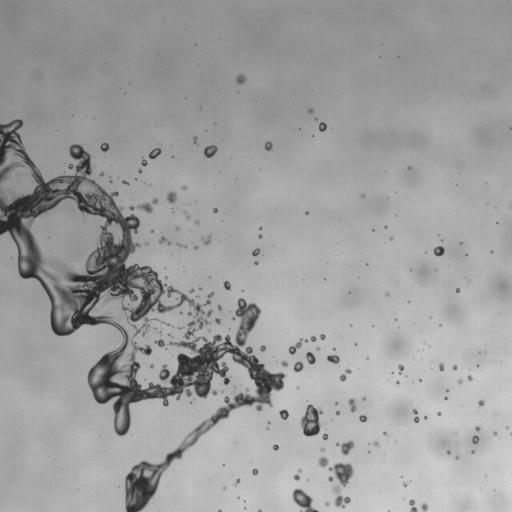droplet: (300, 404, 322, 436), (336, 440, 354, 455), (203, 145, 217, 158), (166, 192, 177, 203), (149, 148, 161, 158), (348, 398, 356, 412), (236, 73, 246, 84), (433, 246, 444, 256), (293, 361, 303, 372), (318, 456, 328, 467), (306, 352, 315, 364), (327, 354, 339, 363), (279, 409, 288, 421), (202, 234, 211, 245), (159, 236, 170, 245), (318, 122, 326, 131), (264, 141, 272, 150), (100, 142, 108, 151), (223, 281, 231, 290), (154, 327, 162, 335), (472, 435, 479, 444), (421, 502, 428, 511), (398, 364, 404, 373), (281, 360, 288, 367), (359, 415, 366, 422), (141, 158, 147, 166), (252, 249, 260, 255), (214, 318, 221, 324), (438, 363, 444, 370), (373, 440, 379, 447), (252, 468, 258, 475), (319, 334, 325, 340), (478, 400, 484, 406), (69, 207, 74, 214), (309, 336, 316, 341), (181, 185, 187, 190), (260, 345, 265, 351), (467, 375, 472, 381), (322, 433, 327, 439), (273, 444, 278, 450), (234, 479, 239, 485), (217, 304, 221, 311), (308, 108, 313, 113), (452, 365, 457, 370), (324, 501, 329, 506), (122, 180, 128, 184), (360, 194, 365, 198), (213, 208, 217, 213), (189, 289, 194, 293), (168, 333, 172, 338), (458, 379, 462, 384), (475, 426, 479, 431), (403, 481, 407, 486), (99, 172, 103, 176), (195, 220, 199, 224), (258, 234, 262, 238), (194, 245, 198, 249), (385, 292, 389, 296), (316, 346, 320, 350), (149, 364, 153, 368), (493, 431, 497, 435), (446, 450, 450, 454), (455, 455, 459, 459), (138, 169, 141, 173), (389, 237, 393, 240), (254, 261, 258, 264), (456, 288, 459, 292), (362, 397, 366, 400), (335, 401, 338, 405), (437, 412, 441, 415), (383, 431, 386, 435), (320, 448, 324, 451), (305, 211, 308, 214), (151, 229, 154, 232), (145, 242, 148, 245), (396, 381, 399, 384), (336, 411, 339, 414), (222, 486, 225, 489), (175, 227, 179, 229), (259, 227, 262, 229), (354, 343, 357, 345), (446, 389, 448, 392), (110, 180, 112, 182), (372, 229, 374, 231), (199, 287, 201, 289), (196, 295, 198, 297), (179, 327, 181, 329), (419, 379, 421, 381), (471, 450, 473, 452)
ligament: (0, 122, 286, 511), (328, 462, 353, 508), (292, 488, 318, 511), (128, 198, 158, 213), (289, 338, 307, 354), (339, 369, 351, 381), (412, 409, 419, 423), (294, 468, 302, 480), (409, 499, 417, 511), (183, 211, 190, 219), (177, 243, 186, 248), (194, 137, 196, 143), (257, 509, 262, 511), (218, 510, 222, 511)
